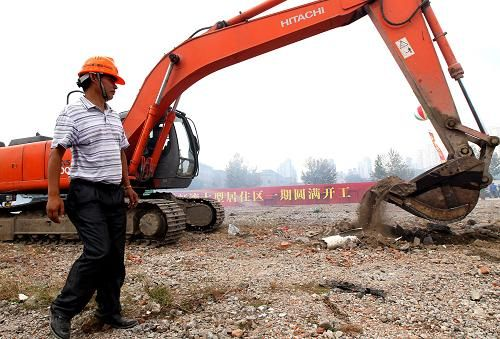excavator: (1, 1, 497, 258)
